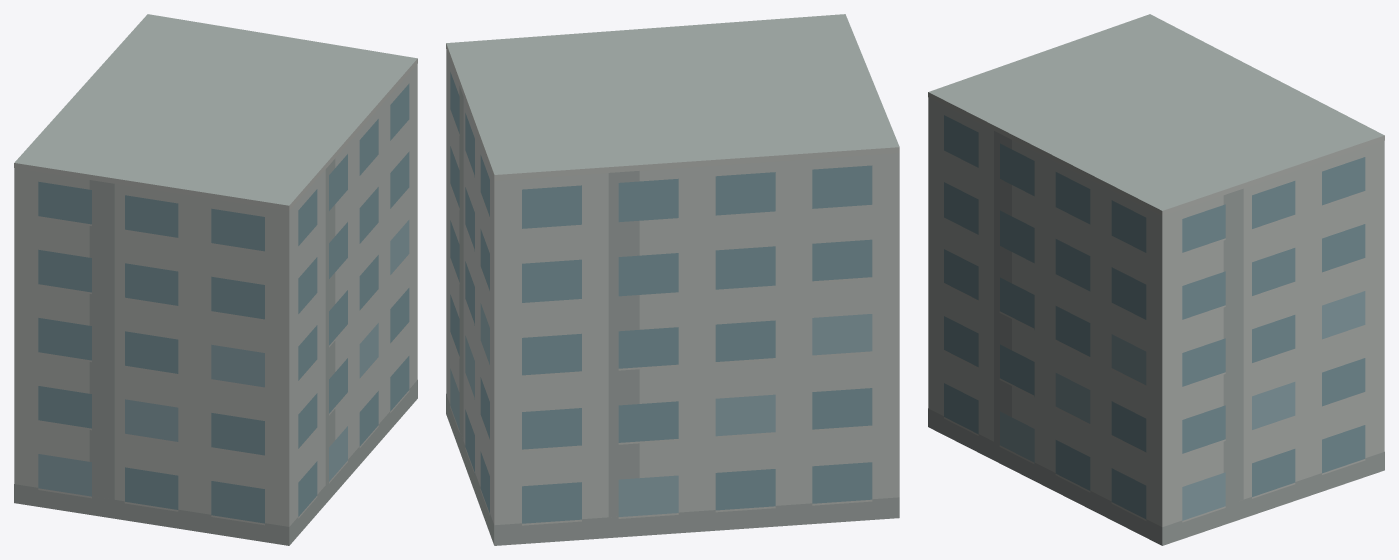
File: survey-upis-32827152.glb
The picture shows the model from 3 angles, left to right: view 1: azimuth 30°, elevation 25°; view 2: azimuth 150°, elevation 25°; view 3: azimuth 270°, elevation 25°; orthographic projection. The views are drawn at different scales.
Parts seen in each view (by area): view 1: survey-upis-32827152.tmp; view 2: survey-upis-32827152.tmp; view 3: survey-upis-32827152.tmp.
Boxes of the visible parts, x1=… form: survey-upis-32827152.tmp: x1=14, y1=14, x2=417, y2=545; survey-upis-32827152.tmp: x1=446, y1=14, x2=899, y2=545; survey-upis-32827152.tmp: x1=928, y1=14, x2=1384, y2=545.
Bounding box in the file's own units: 19.8 × 15.7 × 19.4.
